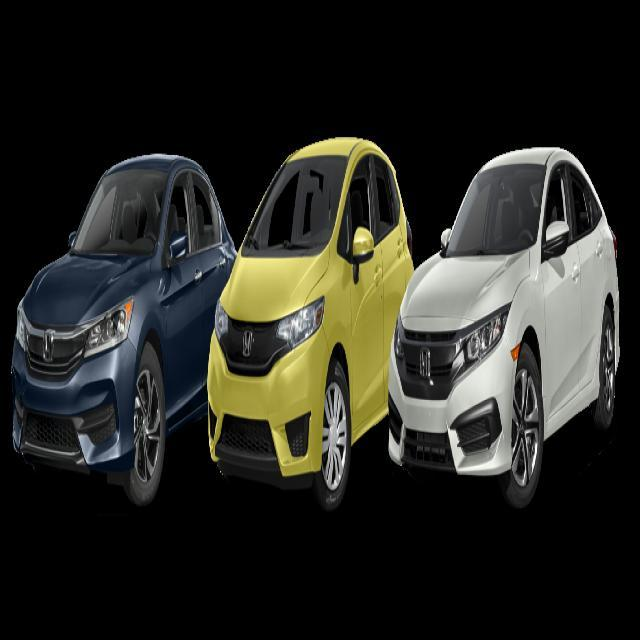pickup: (387, 142, 620, 508), (11, 150, 238, 507), (206, 134, 414, 511)
